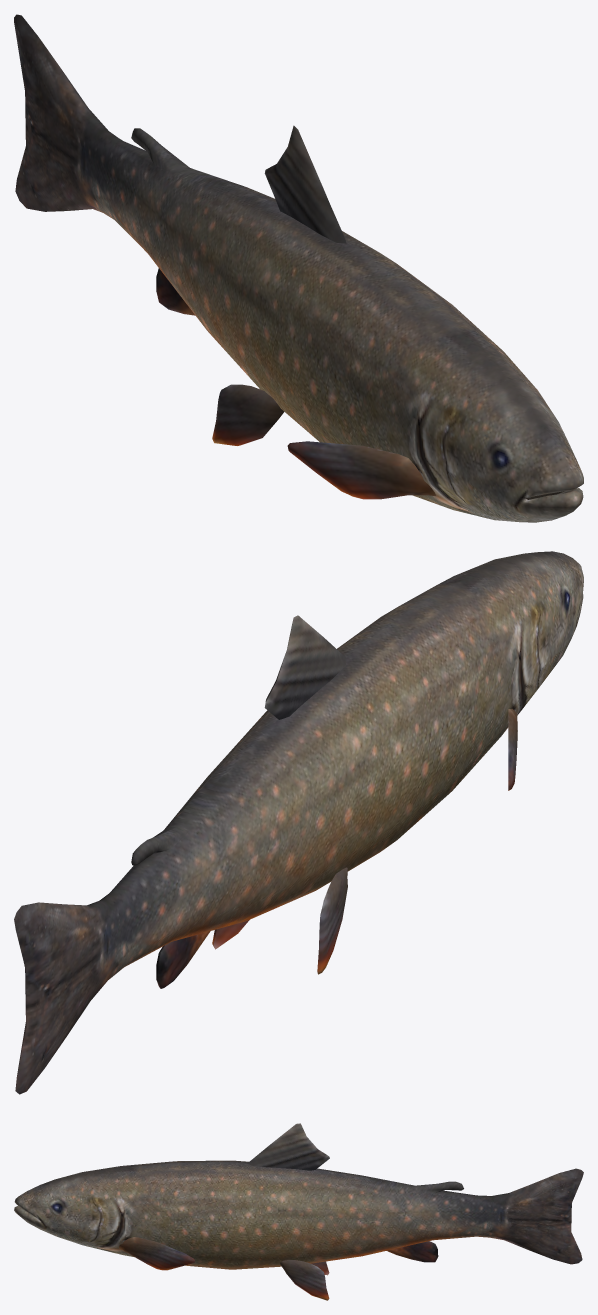
The model's file is SM_ArcticChar_1.fbx.
The picture shows the model from 3 angles, top to bottom: view 1: azimuth 30°, elevation 25°; view 2: azimuth 150°, elevation 25°; view 3: azimuth 270°, elevation 25°; orthographic projection. The views are drawn at different scales.
Visible parts, largest first — view 1: SM_ArcticChar_1; view 2: SM_ArcticChar_1; view 3: SM_ArcticChar_1.
Boxes of the visible parts, x1=… form: SM_ArcticChar_1: x1=14, y1=14, x2=583, y2=522; SM_ArcticChar_1: x1=14, y1=551, x2=583, y2=1094; SM_ArcticChar_1: x1=14, y1=1123, x2=583, y2=1300.
Size of the model in its own units: 11.36 by 15.84 by 49.72.
